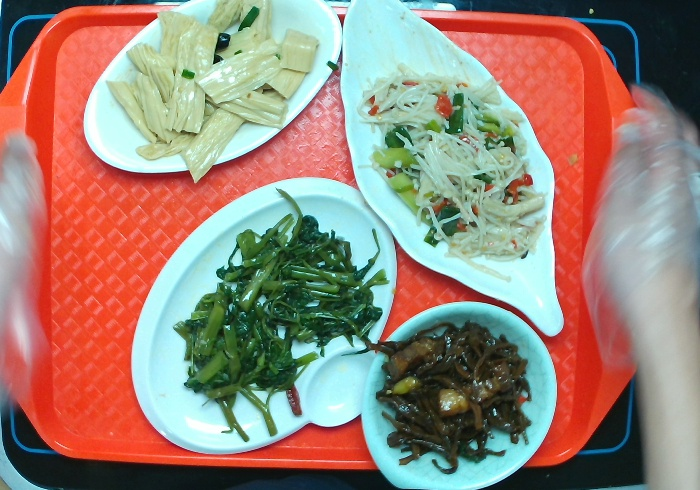RJxy-Bai_Se_Tuo_Yuan: (80, 1, 347, 176)
RJxy-Shu_Ye_Pan: (334, 1, 567, 331)
RJxy-Xiao_Jiao_Yuan_Wan: (359, 298, 565, 490)
RJxy-Zhan_Liao_Pan: (135, 173, 402, 458)
